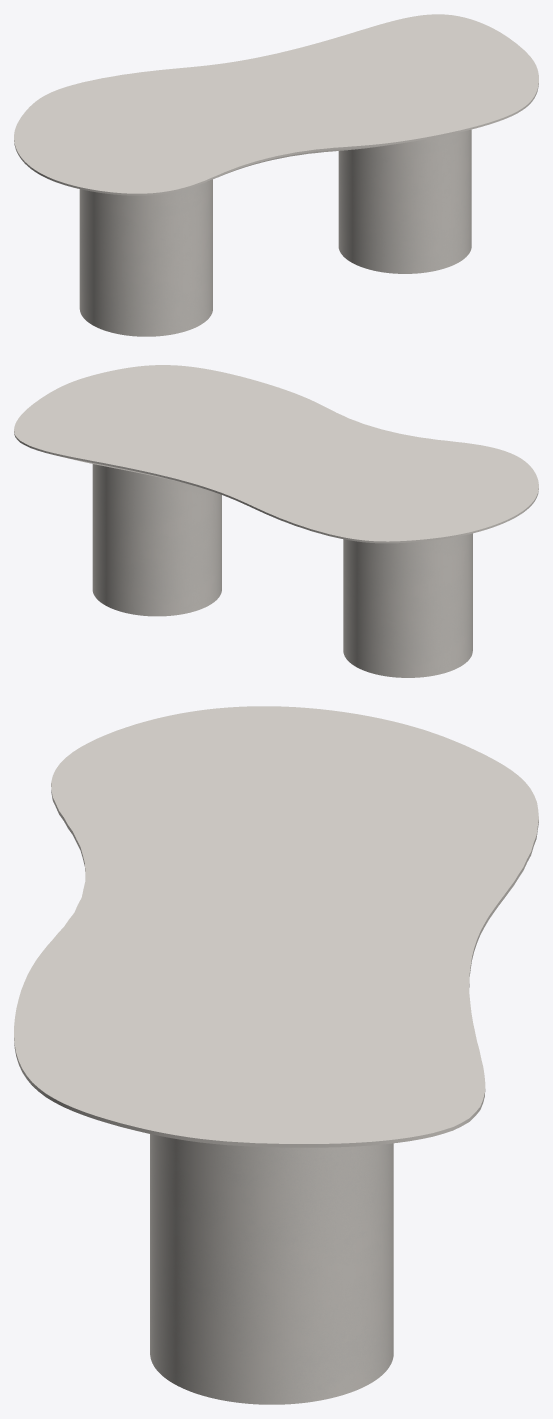
File: pearlwhite_wave_facet_stream.glb
The picture shows the model from 3 angles, top to bottom: view 1: azimuth 30°, elevation 25°; view 2: azimuth 150°, elevation 25°; view 3: azimuth 270°, elevation 25°; orthographic projection. The views are drawn at different scales.
Parts seen in each view (by area): view 1: facet_wave, stream; view 2: facet_wave, stream; view 3: facet_wave, stream.
Boxes of the visible parts, left/top/right/bottom form: facet_wave: left=14, top=14, right=538, bottom=195; stream: left=79, top=129, right=471, bottom=336; facet_wave: left=14, top=365, right=538, bottom=543; stream: left=92, top=464, right=472, bottom=677; facet_wave: left=14, top=706, right=538, bottom=1147; stream: left=150, top=1134, right=393, bottom=1404.
Size of the model in its own units: 7.5 by 2.5 by 3.8.
1 material, 1 textured.
